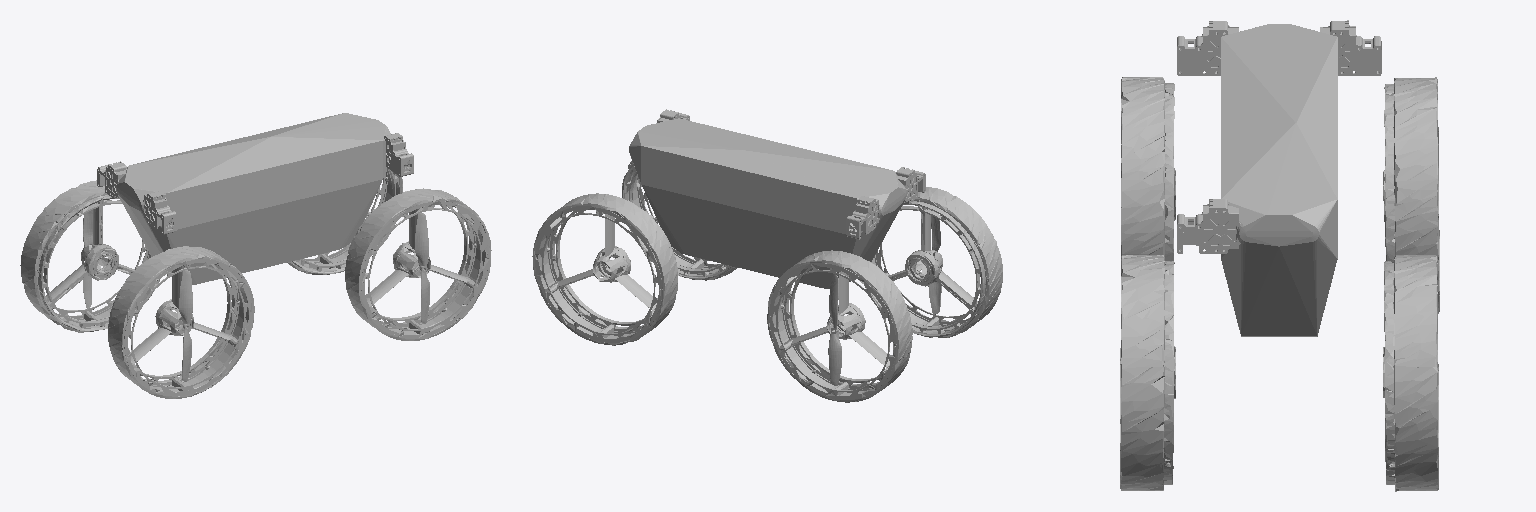
--- What the picture shows (computed from the rendered views, not written in the file) ---
Views: 3 orthographic renders of the robot side by side, from view 1: azimuth 30°, elevation 25°; view 2: azimuth 150°, elevation 25°; view 3: azimuth 270°, elevation 25°.
Model m4assembly with 22 links and 21 joints (10 revolute, 4 continuous, 7 fixed), rooted at base_link, posed all joints at 0.
Links seen in each view (by area): view 1: base_link, rear_right_wheel, front_right_wheel, rear_left_wheel, front_left_wheel, rear_right_blade, front_right_blade, rear_right_hip, front_right_hip, rear_left_hip, rear_left_blade; view 2: base_link, front_left_wheel, rear_left_wheel, rear_right_wheel, front_right_wheel, rear_left_blade, rear_left_hip, rear_right_hip, rear_right_blade; view 3: base_link, front_left_wheel, front_right_wheel, rear_left_wheel, rear_right_wheel, front_right_hip, rear_left_hip, rear_right_hip.
Link boxes in pixels (x1,y1,x2,y2): base_link: (116,113,390,284); rear_right_wheel: (108,246,254,398); front_right_wheel: (345,188,491,340); rear_left_wheel: (20,180,160,332); front_left_wheel: (287,168,402,274); rear_right_blade: (179,270,192,381); front_right_blade: (415,213,429,323); rear_right_hip: (143,191,176,234); front_right_hip: (384,133,413,176); rear_left_hip: (97,161,126,197); rear_left_blade: (83,205,92,309); base_link: (629,118,906,288); front_left_wheel: (532,193,677,345); rear_left_wheel: (767,250,912,402); rear_right_wheel: (864,187,1002,337); front_right_wheel: (622,161,737,280); rear_left_blade: (828,274,841,385); rear_left_hip: (846,196,879,239); rear_right_hip: (896,167,925,203); rear_right_blade: (928,210,941,314); base_link: (1221,24,1337,336); front_left_wheel: (1383,255,1438,491); front_right_wheel: (1120,255,1175,490); rear_left_wheel: (1383,77,1439,313); rear_right_wheel: (1121,77,1175,260); front_right_hip: (1177,199,1240,253); rear_left_hip: (1320,20,1381,75); rear_right_hip: (1177,21,1238,75).
Bounding box of the posed robot: 0.6978 × 0.3389 × 0.3329 m (x, y, z).
11 mesh visuals loaded from 18 distinct referenced files (11 binary STL); not drawn: 7 (reference not matched to a file when rendering).

URDF robot description (m4assembly):
<?xml version="1.0" encoding="utf-8"?>

<robot name="m4assembly">
  <joint name="m4/ground_truth/odometry_sensorgt_joint" type="revolute">
    <parent link="base_link"/>
    <child link="m4/ground_truth/odometry_sensorgt_link"/>
    <origin xyz="0      0      0.19492" rpy="0 0 0"/>
    <axis xyz="0 0 1"/>
    <limit lower="0.0" upper="0.0" effort="0.0" velocity="0.0"/>
  </joint>
  <joint name="m4/imu_joint" type="revolute">
    <parent link="base_link"/>
    <child link="m4/imu_link"/>
    <origin xyz="0      0      0.19492" rpy="0 0 0"/>
    <axis xyz="0 0 1"/>
    <limit lower="0.0" upper="0.0" effort="0.0" velocity="0.0"/>
  </joint>
  <link name="m4/ground_truth/odometry_sensorgt_link">
    <inertial>
      <mass value="0.001"/>
      <origin xyz="0 0 0" rpy="0 0 0"/>
      <inertia ixx="0.0001" ixy="0" ixz="0" iyy="0.0002" iyz="0" izz="0.0002"/>
    </inertial>
  </link>
  <link name="m4/imu_link">
   <inertial>
      <mass value="0.001"/>
      <origin xyz="0 0 0" rpy="0 0 0"/>
      <inertia ixx="0.00001" ixy="0" ixz="0" iyy="0.00002" iyz="0" izz="0.00002"/>
   </inertial>
  </link>
  <link
    name="base_link">
    <inertial>
      <origin
        xyz="0.00014012 -1.2866E-05 -0.067235"
        rpy="0 0 0" />
      <mass
        value="1.054" />
      <inertia
        ixx="0.00066925"
        ixy="-1.7138E-07"
        ixz="8.4179E-07"
        iyy="0.0060916"
        iyz="-5.4732E-08"
        izz="0.006372" />
    </inertial>
    <visual>
      <origin
        xyz="0 0 0"
        rpy="0 0 0" />
      <geometry>
        <mesh
          filename="package://m4assembly/meshes/base_link.STL" />
      </geometry>
      <material
        name="">
        <color
          rgba="0.75294 0.75294 0.75294 1" />
      </material>
    </visual>
    <collision>
      <origin
        xyz="0 0 0"
        rpy="0 0 0" />
      <geometry>
        <mesh
          filename="package://m4assembly/meshes/col/base_link.STL" />
      </geometry>
    </collision>
  </link>
  <link
    name="rear_left_hip">
    <inertial>
      <origin
        xyz="0.032048263261567 0.00148857273521091 0.000801285389170403"
        rpy="0 0 0" />
      <mass
        value="0.0631744337027232" />
      <inertia
        ixx="1.00187470871694E-05"
        ixy="1.26346518144828E-06"
        ixz="-1.71088892144535E-13"
        iyy="1.47423630145446E-05"
        iyz="-3.33426314544602E-14"
        izz="2.18314090226691E-05" />
    </inertial>
    <visual>
      <origin
        xyz="0 0 0"
        rpy="0 0 0" />
      <geometry>
        <mesh
          filename="package://m4assembly/meshes/rear_left_hip.STL" />
      </geometry>
      <material
        name="">
        <color
          rgba="0.752941176470588 0.752941176470588 0.752941176470588 1" />
      </material>
    </visual>
    <collision>
      <origin
        xyz="0 0 0"
        rpy="0 0 0" />
      <geometry>
        <mesh
          filename="package://m4assembly/meshes/col/rear_left_hip.STL" />
      </geometry>
    </collision>
  </link>
  <joint
    name="rear_left_hip_joint"
    type="revolute">
    <origin
      xyz="-0.2231 0.0323 -0.02605"
      rpy="1.5708 -0.0099006 1.5708" />
    <parent
      link="base_link" />
    <child
      link="rear_left_hip" />
    <axis
      xyz="0 0 1" />
    <limit
      lower="0"
      upper="1.571"
      effort="10.5"
      velocity="1.57" />
  </joint>
  <link
    name="rear_left_leg">
    <inertial>
      <origin
        xyz="-3.41455978458693E-06 0.0865094820933296 -0.00425258484840052"
        rpy="0 0 0" />
      <mass
        value="0.208886814057311" />
      <inertia
        ixx="7.70084638154863E-05"
        ixy="9.13752456418355E-09"
        ixz="3.41558069671286E-07"
        iyy="5.22430908180149E-05"
        iyz="-3.49227338347394E-08"
        izz="5.21652155907927E-05" />
    </inertial>
    <visual>
      <origin
        xyz="0 0 0"
        rpy="0 0 0" />
      <geometry>
        <mesh
          filename="package://m4assembly/meshes/rear_left_leg.STL" />
      </geometry>
      <material
        name="">
        <color
          rgba="0.752941176470588 0.752941176470588 0.752941176470588 1" />
      </material>
    </visual>
    <collision>
      <origin
        xyz="0 0 0"
        rpy="0 0 0" />
      <geometry>
        <mesh
          filename="package://m4assembly/meshes/col/rear_left_leg.STL" />
      </geometry>
    </collision>
  </link>
  <joint
    name="rear_left_leg_joint"
    type="fixed">
    <origin
      xyz="0.0611 -0.006895 -5E-05"
      rpy="1.5708 -1.5526 1.5708" />
    <parent
      link="rear_left_hip" />
    <child
      link="rear_left_leg" />
    <axis
      xyz="0 0 -1" />
  </joint>
  <link
    name="rear_left_wheel">
    <inertial>
      <origin
        xyz="-1.2835011736767E-06 2.34490590667047E-07 -0.0298825868697071"
        rpy="0 0 0" />
      <mass
        value="0.447367748033206" />
      <inertia
        ixx="0.00104268899323013"
        ixy="-3.91603340525233E-08"
        ixz="3.60415118706037E-11"
        iyy="0.00104263881447407"
        iyz="-3.26123864995785E-11"
        izz="0.00200352361648073" />
    </inertial>
    <visual>
      <origin
        xyz="0 0 0"
        rpy="0 0 0" />
      <geometry>
        <mesh
          filename="package://m4assembly/meshes/rear_left_wheel.STL" />
      </geometry>
      <material
        name="">
        <color
          rgba="0.752941176470588 0.752941176470588 0.752941176470588 1" />
      </material>
    </visual>
    <collision>
      <origin
        xyz="0 0 0"
        rpy="0 0 0" />
      <geometry>
        <mesh
          filename="package://m4assembly/meshes/col/rear_left_wheel.STL" />
      </geometry>
    </collision>
  </link>
  <joint
    name="rear_left_wheel_joint"
    type="continuous">
    <origin
      xyz="0 0.162 0.011129"
      rpy="-3.1416 0 0.018227" />
    <parent
      link="rear_left_leg" />
    <child
      link="rear_left_wheel" />
    <axis
      xyz="0 0 -1" />
    <limit
      effort="200"
      velocity="200" />
  </joint>
  <link
    name="rear_left_blade">
    <inertial>
      <origin
        xyz="-3.30314530727627E-08 -8.23060748793014E-05 0.0082946342231609"
        rpy="0 0 0" />
      <mass
        value="0.00610274937825579" />
      <inertia
        ixx="4.75952063199721E-06"
        ixy="-3.96883337183772E-08"
        ixz="-3.93240380060884E-10"
        iyy="1.57361545543065E-07"
        iyz="-4.65846533883739E-08"
        izz="4.86189149512478E-06" />
    </inertial>
    <visual>
      <origin
        xyz="0 0 0"
        rpy="0 0 0" />
      <geometry>
        <mesh
          filename="package://m4assembly/meshes/rear_left_blade.STL" />
      </geometry>
      <material
        name="">
        <color
          rgba="0.752941176470588 0.752941176470588 0.752941176470588 1" />
      </material>
    </visual>
    <collision>
      <origin
        xyz="0 0 0"
        rpy="0 0 0" />
      <geometry>
        <cylinder radius="0.1" length="0.005"/>
      </geometry>
    </collision>
  </link>
  <joint
    name="rear_left_blade_joint"
    type="revolute">
    <origin
      xyz="0 0.162 0.061129"
      rpy="-0.0099006 0 0.018227" />
    <parent
      link="rear_left_leg" />
    <child
      link="rear_left_blade" />
    <axis
      xyz="0 -0.0099004 0.99995" />
    <limit lower="-1e+16" upper="1e+16" effort="10000" velocity="10000"/>
  </joint>
  <link
    name="rear_right_hip">
    <inertial>
      <origin
        xyz="0.0320482634870919 0.00148857274187802 -0.000820989548367512"
        rpy="0 0 0" />
      <mass
        value="0.0631744341018766" />
      <inertia
        ixx="1.00187470810585E-05"
        ixy="1.26346518895748E-06"
        ixz="-1.58209935155058E-13"
        iyy="1.47423629783338E-05"
        iyz="-2.99342928986296E-14"
        izz="2.18314089935792E-05" />
    </inertial>
    <visual>
      <origin
        xyz="0 0 0"
        rpy="0 0 0" />
      <geometry>
        <mesh
          filename="package://m4assembly/meshes/rear_right_hip.STL" />
      </geometry>
      <material
        name="">
        <color
          rgba="0.752941176470588 0.752941176470588 0.752941176470588 1" />
      </material>
    </visual>
    <collision>
      <origin
        xyz="0 0 0"
        rpy="0 0 0" />
      <geometry>
        <mesh
          filename="package://m4assembly/meshes/col/rear_right_hip.STL" />
      </geometry>
    </collision>
  </link>
  <joint
    name="rear_right_hip_joint"
    type="revolute">
    <origin
      xyz="-0.2235 -0.0323 -0.02605"
      rpy="1.5708 -0.0032479 -1.5708" />
    <parent
      link="base_link" />
    <child
      link="rear_right_hip" />
    <axis
      xyz="0 0 1" />
    <limit
      lower="0"
      upper="1.571"
      effort="10.5"
      velocity="1.57" />
  </joint>
  <link
    name="rear_right_leg">
    <inertial>
      <origin
        xyz="3.41455156416259E-06 0.0865094821571721 0.00425258483326613"
        rpy="0 0 0" />
      <mass
        value="0.208886814304404" />
      <inertia
        ixx="7.70084638389827E-05"
        ixy="-9.13752631729426E-09"
        ixz="3.41558058672973E-07"
        iyy="5.22430908411789E-05"
        iyz="3.49227166953638E-08"
        izz="5.21652156031499E-05" />
    </inertial>
    <visual>
      <origin
        xyz="0 0 0"
        rpy="0 0 0" />
      <geometry>
        <mesh
          filename="package://m4assembly/meshes/rear_right_leg.STL" />
      </geometry>
      <material
        name="">
        <color
          rgba="0.752941176470588 0.752941176470588 0.752941176470588 1" />
      </material>
    </visual>
    <collision>
      <origin
        xyz="0 0 0"
        rpy="0 0 0" />
      <geometry>
        <mesh
          filename="package://m4assembly/meshes/col/rear_right_leg.STL" />
      </geometry>
    </collision>
  </link>
  <joint
    name="rear_right_leg_joint"
    type="fixed">
    <origin
      xyz="0.0611 -0.006895 0"
      rpy="3.1416 1.5708 0" />
    <parent
      link="rear_right_hip" />
    <child
      link="rear_right_leg" />
    <axis
      xyz="0 0 1" />
  </joint>
  <link
    name="rear_right_wheel">
    <inertial>
      <origin
        xyz="-1.78659846361562E-08 -2.01874887645337E-06 0.0255799203790625"
        rpy="0 0 0" />
      <mass
        value="0.447367750743676" />
      <inertia
        ixx="0.0010426206896193"
        ixy="-2.73561891555305E-10"
        ixz="3.48030847023143E-11"
        iyy="0.00104270712224184"
        iyz="3.22928670574781E-11"
        izz="0.00200352362095162" />
    </inertial>
    <visual>
      <origin
        xyz="0 0 0"
        rpy="0 0 0" />
      <geometry>
        <mesh
          filename="package://m4assembly/meshes/rear_right_wheel.STL" />
      </geometry>
      <material
        name="">
        <color
          rgba="0.752941176470588 0.752941176470588 0.752941176470588 1" />
      </material>
    </visual>
    <collision>
      <origin
        xyz="0 0 0"
        rpy="0 0 0" />
      <geometry>
        <mesh
          filename="package://m4assembly/meshes/col/rear_right_wheel.STL" />
      </geometry>
    </collision>
  </link>
  <joint
    name="rear_right_wheel_joint"
    type="continuous">
    <origin
      xyz="0 0.162 -0.015431"
      rpy="3.1416 0 0" />
    <parent
      link="rear_right_leg" />
    <child
      link="rear_right_wheel" />
    <axis
      xyz="0 0 -1" />
    <limit
      effort="200"
      velocity="200" />
  </joint>
  <link
    name="rear_right_blade">
    <inertial>
      <origin
        xyz="2.93887484903443E-08 6.79423276528368E-08 0.00399237045178649"
        rpy="0 0 0" />
      <mass
        value="0.00610270077025495" />
      <inertia
        ixx="4.75712306507452E-06"
        ixy="-1.12007295746605E-07"
        ixz="2.24623999105101E-13"
        iyy="1.59284414569248E-07"
        iyz="3.54828245352755E-13"
        izz="4.86233952224275E-06" />
    </inertial>
    <visual>
      <origin
        xyz="0 0 0"
        rpy="0 0 0" />
      <geometry>
        <mesh
          filename="package://m4assembly/meshes/rear_right_blade.STL" />
      </geometry>
      <material
        name="">
        <color
          rgba="0.752941176470588 0.752941176470588 0.752941176470588 1" />
      </material>
    </visual>
    <collision>
      <origin
        xyz="0 0 0"
        rpy="0 0 0" />
      <geometry>
        <mesh
          filename="package://m4assembly/meshes/col/rear_right_blade.STL" />
      </geometry>
    </collision>
  </link>
  <joint
    name="rear_right_blade_joint"
    type="revolute">
    <origin
      xyz="0 0.162 -0.065431"
      rpy="3.1416 0 0" />
    <parent
      link="rear_right_leg" />
    <child
      link="rear_right_blade" />
    <axis
      xyz="0 0 1" />
    <limit lower="-1e+16" upper="1e+16" effort="10000" velocity="10000"/>  
  </joint>
  <link
    name="front_left_hip">
    <inertial>
      <origin
        xyz="0.0320482633471696 0.00148857273674285 0.00169341200883941"
        rpy="0 0 0" />
      <mass
        value="0.0631744338743183" />
      <inertia
        ixx="1.00187470896772E-05"
        ixy="1.26346518496343E-06"
        ixz="-1.75127210359815E-13"
        iyy="1.474236301921E-05"
        iyz="-3.22758580937248E-14"
        izz="2.18314090243211E-05" />
    </inertial>
    <visual>
      <origin
        xyz="0 0 0"
        rpy="0 0 0" />
      <geometry>
        <mesh
          filename="package://m4assembly/meshes/front_left_hip.STL" />
      </geometry>
      <material
        name="">
        <color
          rgba="0.752941176470588 0.752941176470588 0.752941176470588 1" />
      </material>
    </visual>
    <collision>
      <origin
        xyz="0 0 0"
        rpy="0 0 0" />
      <geometry>
        <mesh
          filename="package://m4assembly/meshes/col/front_left_hip.STL" />
      </geometry>
    </collision>
  </link>
  <joint
    name="front_left_hip_joint"
    type="revolute">
    <origin
      xyz="0.22099 0.0323 -0.02605"
      rpy="1.5708 -0.006693 1.5708" />
    <parent
      link="base_link" />
    <child
      link="front_left_hip" />
    <axis
      xyz="0 0 1" />
    <limit
      lower="0"
      upper="1.571"
      effort="10.5"
      velocity="1.57" />
  </joint>
  <link
    name="front_left_leg">
    <inertial>
      <origin
        xyz="-3.41455576607095E-06 0.0865094821265606 -0.00425258483916741"
        rpy="0 0 0" />
      <mass
        value="0.208886814202469" />
      <inertia
        ixx="7.70084638282559E-05"
        ixy="9.13752541336675E-09"
        ixz="3.41558064254658E-07"
        iyy="5.22430908306995E-05"
        iyz="-3.49227240782923E-08"
        izz="5.21652155975951E-05" />
    </inertial>
    <visual>
      <origin
        xyz="0 0 0"
        rpy="0 0 0" />
      <geometry>
        <mesh
          filename="package://m4assembly/meshes/front_left_leg.STL" />
      </geometry>
      <material
        name="">
        <color
          rgba="0.752941176470588 0.752941176470588 0.752941176470588 1" />
      </material>
    </visual>
    <collision>
      <origin
        xyz="0 0 0"
        rpy="0 0 0" />
      <geometry>
        <mesh
          filename="package://m4assembly/meshes/col/front_left_leg.STL" />
      </geometry>
    </collision>
  </link>
  <joint
    name="front_left_leg_joint"
    type="fixed">
    <origin
      xyz="0.0611 -0.006895 0.0025144"
      rpy="-1.5708 -1.5708 -1.5708" />
    <parent
      link="front_left_hip" />
    <child
      link="front_left_leg" />
    <axis
      xyz="0 0 -1" />
  </joint>
  <link
    name="front_left_wheel">
    <inertial>
      <origin
        xyz="1.77235233511999E-08 -2.01879895370127E-06 -0.0284894545323338"
        rpy="0 0 0" />
      <mass
        value="0.447367750292981" />
      <inertia
        ixx="0.00104262069065618"
        ixy="2.74220212176939E-10"
        ixz="3.54050122778484E-11"
        iyy="0.00104270712119543"
        iyz="-3.25695335683767E-11"
        izz="0.00200352362063109" />
    </inertial>
    <visual>
      <origin
        xyz="0 0 0"
        rpy="0 0 0" />
      <geometry>
        <mesh
          filename="package://m4assembly/meshes/front_left_wheel.STL" />
      </geometry>
      <material
        name="">
        <color
          rgba="0.752941176470588 0.752941176470588 0.752941176470588 1" />
      </material>
    </visual>
    <collision>
      <origin
        xyz="0 0 0"
        rpy="0 0 0" />
      <geometry>
        <mesh
          filename="package://m4assembly/meshes/col/front_left_wheel.STL" />
      </geometry>
    </collision>
  </link>
  <joint
    name="front_left_wheel_joint"
    type="continuous">
    <origin
      xyz="0 0.162 0.012522"
      rpy="3.1416 0 0" />
    <parent
      link="front_left_leg" />
    <child
      link="front_left_wheel" />
    <axis
      xyz="0 0 -1" />
    <limit
      effort="200"
      velocity="200" />
  </joint>
  <link
    name="front_left_blade">
    <inertial>
      <origin
        xyz="-1.18411884182483E-08 -1.5997300897852E-07 0.0069019562259629"
        rpy="0 0 0" />
      <mass
        value="0.0061028301426362" />
      <inertia
        ixx="4.65427221541224E-06"
        ixy="6.89623690398127E-07"
        ixz="-5.02014385573018E-13"
        iyy="2.62287309333734E-07"
        iyz="-7.87853177369262E-13"
        izz="4.86249379657286E-06" />
    </inertial>
    <visual>
      <origin
        xyz="0 0 0"
        rpy="0 0 0" />
      <geometry>
        <mesh
          filename="package://m4assembly/meshes/front_left_blade.STL" />
      </geometry>
      <material
        name="">
        <color
          rgba="0.752941176470588 0.752941176470588 0.752941176470588 1" />
      </material>
    </visual>
    <collision>
      <origin
        xyz="0 0 0"
        rpy="0 0 0" />
      <geometry>
        <mesh
          filename="package://m4assembly/meshes/col/front_left_blade.STL" />
      </geometry>
    </collision>
  </link>
  <joint
    name="front_left_blade_joint"
    type="revolute">
    <origin
      xyz="0 0.162 0.062522"
      rpy="0 0 0" />
    <parent
      link="front_left_leg" />
    <child
      link="front_left_blade" />
    <axis
      xyz="0 0 1" />
    <limit lower="-1e+16" upper="1e+16" effort="10000" velocity="10000"/>
  </joint>
  <link
    name="front_right_hip">
    <inertial>
      <origin
        xyz="0.0320482634665248 0.0014885727412563 -0.00131311618414334"
        rpy="0 0 0" />
      <mass
        value="0.0631744340641276" />
      <inertia
        ixx="1.00187470815544E-05"
        ixy="1.26346518823477E-06"
        ixz="-1.57692513882067E-13"
        iyy="1.47423629788781E-05"
        iyz="-2.96148209881054E-14"
        izz="2.18314089943886E-05" />
    </inertial>
    <visual>
      <origin
        xyz="0 0 0"
        rpy="0 0 0" />
      <geometry>
        <mesh
          filename="package://m4assembly/meshes/front_right_hip.STL" />
      </geometry>
      <material
        name="">
        <color
          rgba="0.752941176470588 0.752941176470588 0.752941176470588 1" />
      </material>
    </visual>
    <collision>
      <origin
        xyz="0 0 0"
        rpy="0 0 0" />
      <geometry>
        <mesh
          filename="package://m4assembly/meshes/col/front_right_hip.STL" />
      </geometry>
    </collision>
  </link>
  <joint
    name="front_right_hip_joint"
    type="revolute">
    <origin
      xyz="0.22099 -0.0323 -0.02605"
      rpy="1.5708 -0.0046828 -1.5708" />
    <parent
      link="base_link" />
    <child
      link="front_right_hip" />
    <axis
      xyz="0 0 1" />
    <limit
      lower="0"
      upper="1.571"
      effort="10.5"
      velocity="1.57" />
  </joint>
  <link
    name="front_right_leg">
    <inertial>
      <origin
        xyz="3.41455365766163E-06 0.0865094821436897 0.00425258483703411"
        rpy="0 0 0" />
      <mass
        value="0.208886814244098" />
      <inertia
        ixx="7.70084638339796E-05"
        ixy="-9.13752605384622E-09"
        ixz="3.4155806167583E-07"
        iyy="5.2243090836002E-05"
        iyz="3.49227209398553E-08"
        izz="5.21652156003534E-05" />
    </inertial>
    <visual>
      <origin
        xyz="0 0 0"
        rpy="0 0 0" />
      <geometry>
        <mesh
          filename="package://m4assembly/meshes/front_right_leg.STL" />
      </geometry>
      <material
        name="">
        <color
          rgba="0.752941176470588 0.752941176470588 0.752941176470588 1" />
      </material>
    </visual>
    <collision>
      <origin
        xyz="0 0 0"
        rpy="0 0 0" />
      <geometry>
        <mesh
          filename="package://m4assembly/meshes/col/front_right_leg.STL" />
      </geometry>
    </collision>
  </link>
  <joint
    name="front_right_leg_joint"
    type="fixed">
    <origin
      xyz="0.0611 -0.006895 -0.0021644"
      rpy="1.5708 1.5656 -1.5708" />
    <parent
      link="front_right_hip" />
    <child
      link="front_right_leg" />
    <axis
      xyz="0 0 1" />
    <limit
      lower="-0.5"
      upper="0.5"
      effort="10.5"
      velocity="1.57" />
  </joint>
  <link
    name="front_right_wheel">
    <inertial>
      <origin
        xyz="1.28310223720821E-06 2.3448596928044E-07 0.0255837574129385"
        rpy="0 0 0" />
      <mass
        value="0.447367750640603" />
      <inertia
        ixx="0.00104268899474349"
        ixy="3.91619025865096E-08"
        ixz="3.50659148166867E-11"
        iyy="0.00104263881744075"
        iyz="3.24293757397963E-11"
        izz="0.00200352362110246" />
    </inertial>
    <visual>
      <origin
        xyz="0 0 0"
        rpy="0 0 0" />
      <geometry>
        <mesh
          filename="package://m4assembly/meshes/front_right_wheel.STL" />
      </geometry>
      <material
        name="">
        <color
          rgba="0.752941176470588 0.752941176470588 0.752941176470588 1" />
      </material>
    </visual>
    <collision>
      <origin
        xyz="0 0 0"
        rpy="0 0 0" />
      <geometry>
        <mesh
          filename="package://m4assembly/meshes/col/front_right_wheel.STL" />
      </geometry>
    </collision>
  </link>
  <joint
    name="front_right_wheel_joint"
    type="continuous">
    <origin
      xyz="0 0.162 -0.015427"
      rpy="-3.1416 0 -0.0052077" />
    <parent
      link="front_right_leg" />
    <child
      link="front_right_wheel" />
    <axis
      xyz="0 0 -1" />
    <limit
      effort="200"
      velocity="200" />
  </joint>
  <link
    name="front_right_blade">
    <inertial>
      <origin
        xyz="6.96858681763831E-08 7.67517420813268E-07 0.0039962219905107"
        rpy="0 0 0" />
      <mass
        value="0.00610290216434297" />
      <inertia
        ixx="4.75885051711651E-06"
        ixy="7.08408517084622E-08"
        ixz="-8.40829933326352E-14"
        iyy="1.57650099061995E-07"
        iyz="8.23720329397051E-13"
        izz="4.86243263794242E-06" />
    </inertial>
    <visual>
      <origin
        xyz="0 0 0"
        rpy="0 0 0" />
      <geometry>
        <mesh
          filename="package://m4assembly/meshes/front_right_blade.STL" />
      </geometry>
      <material
        name="">
        <color
          rgba="0.752941176470588 0.752941176470588 0.752941176470588 1" />
      </material>
    </visual>
    <collision>
      <origin
        xyz="0 0 0"
        rpy="0 0 0" />
      <geometry>
        <mesh
          filename="package://m4assembly/meshes/col/front_right_blade.STL" />
      </geometry>
    </collision>
  </link>
  <joint
    name="front_right_blade_joint"
    type="revolute">
    <origin
      xyz="0 0.162 -0.065427"
      rpy="-3.1416 0 -0.0052077" />
    <parent
      link="front_right_leg" />
    <child
      link="front_right_blade" />
    <axis
      xyz="0 0 1" />
    <limit lower="-1e+16" upper="1e+16" effort="10000" velocity="10000"/>
  </joint>

    <link name="front_realsense" />

  <!--
    The gazebo plugin aligns the depth data with the Z axis, with X=left and Y=up
    ROS expects the depth data along the X axis, with Y=left and Z=up
    This link only exists to give the gazebo plugin the correctly-oriented frame
  -->
  <link name="front_realsense_gazebo" />
  <joint name="front_realsense_gazebo_joint" type="fixed">
    <parent link="front_realsense"/>
    <child link="front_realsense_gazebo"/>
    <origin xyz="0.0 0 0" rpy="-1.5707963267948966 0 -1.5707963267948966"/>
  </joint>

  <gazebo reference="front_realsense">
    <turnGravityOff>true</turnGravityOff>
    <sensor type="depth" name="front_realsense_depth">
      <update_rate>30</update_rate>
      <camera>
        <!-- 75x65 degree FOV for the depth sensor -->
        <horizontal_fov>1.5184351666666667</horizontal_fov>
        <vertical_fov>1.0122901111111111</vertical_fov>

        <image>
          <width>640</width>
          <height>480</height>
          <format>RGB8</format>
        </image>
        <clip>
          <!-- give the color sensor a maximum range of 50m so that the simulation renders nicely -->
          <near>0.01</near>
          <far>50.0</far>
        </clip>
      </camera>
      <plugin name="kinect_controller" filename="libgazebo_ros_openni_kinect.so">
        <baseline>0.2</baseline>
        <alwaysOn>true</alwaysOn>
        <updateRate>30</updateRate>
        <cameraName>realsense</cameraName>
        <imageTopicName>color/image_raw</imageTopicName>
        <cameraInfoTopicName>color/camera_info</cameraInfoTopicName>
        <depthImageTopicName>depth/image_rect_raw</depthImageTopicName>
        <depthImageInfoTopicName>depth/camera_info</depthImageInfoTopicName>
        <pointCloudTopicName>depth/color/points</pointCloudTopicName>
        <frameName>front_realsense_gazebo</frameName>
        <pointCloudCutoff>0.105</pointCloudCutoff>
        <pointCloudCutoffMax>8.0</pointCloudCutoffMax>
        <distortionK1>0.00000001</distortionK1>
        <distortionK2>0.00000001</distortionK2>
        <distortionK3>0.00000001</distortionK3>
        <distortionT1>0.00000001</distortionT1>
        <distortionT2>0.00000001</distortionT2>
        <CxPrime>0</CxPrime>
        <Cx>0</Cx>
        <Cy>0</Cy>
        <focalLength>0</focalLength>
        <hackBaseline>0</hackBaseline>
      </plugin>
    </sensor>
  </gazebo>

  <link name="front_realsense_lens">
    <visual>
      <origin xyz="0.02 0 0" rpy="1.5707963267948966 0 1.5707963267948966" />
      <geometry>
        <mesh filename="package://realsense2_description/meshes/d435.dae" />
      </geometry>
      <material name="white" />
    </visual>
  </link>

  <joint type="fixed" name="front_realsense_lens_joint">
    <!-- Offset the camera 2cm backwards and 1cm up -->
    <origin xyz="0.24099 0 0" rpy="0 0 0" />
    <parent link="base_link" />
    <child link="front_realsense_lens" />
  </joint>
  <joint type="fixed" name="front_realsense_joint">
    <origin xyz="0.025 0 0" rpy="0 0 0" />
    <parent link="front_realsense_lens" />
    <child link="front_realsense" />
  </joint>
  
  <plugin name="p3d_base_controller" filename="libgazebo_ros_p3d.so">
   <alwaysOn>true</alwaysOn>
   <updateRate>50.0</updateRate>
   <bodyName>base_link</bodyName>
   <topicName>my_odom</topicName>
   <gaussianNoise>0.01</gaussianNoise>
   <frameName>world</frameName>
   <xyzOffsets>0 0 0</xyzOffsets>
   <rpyOffsets>0 0 0</rpyOffsets>
  </plugin>

<!-- ROS Control plugin for Gazebo -->
  <gazebo>
    <plugin name="gazebo_ros_control" filename="libgazebo_ros_control.so">
      <robotNamespace>/m4assembly</robotNamespace>
    </plugin>
  </gazebo>

  <!-- transmission -->
  <transmission name="rl_hip_trans">
    <type>transmission_interface/SimpleTransmission</type>
    <actuator name="motor1">
      <mechanicalReduction>1</mechanicalReduction>
    </actuator>
    <joint name="rear_left_hip_joint">
      <hardwareInterface>hardware_interface/EffortJointInterface</hardwareInterface>
    </joint>
  </transmission>

  <transmission name="rl_wheel_trans">
    <type>transmission_interface/SimpleTransmission</type>
    <actuator name="motor3">
      <mechanicalReduction>1</mechanicalReduction>
    </actuator>
    <joint name="rear_left_wheel_joint">
      <hardwareInterface>hardware_interface/VelocityJointInterface</hardwareInterface>
    </joint>
  </transmission>

  <transmission name="rr_hip_trans">
    <type>transmission_interface/SimpleTransmission</type>
    <actuator name="motor5">
      <mechanicalReduction>1</mechanicalReduction>
    </actuator>
    <joint name="rear_right_hip_joint">
      <hardwareInterface>hardware_interface/EffortJointInterface</hardwareInterface>
    </joint>
  </transmission>

  <transmission name="rr_wheel_trans">
    <type>transmission_interface/SimpleTransmission</type>
    <actuator name="motor7">
      <mechanicalReduction>1</mechanicalReduction>
    </actuator>
    <joint name="rear_right_wheel_joint">
      <hardwareInterface>hardware_interface/VelocityJointInterface</hardwareInterface>
    </joint>
  </transmission>

  <transmission name="fl_hip_trans">
    <type>transmission_interface/SimpleTransmission</type>
    <actuator name="motor9">
      <mechanicalReduction>1</mechanicalReduction>
    </actuator>
    <joint name="front_left_hip_joint">
      <hardwareInterface>hardware_interface/EffortJointInterface</hardwareInterface>
    </joint>
  </transmission>

  <transmission name="fl_wheel_trans">
    <type>transmission_interface/SimpleTransmission</type>
    <actuator name="motor11">
      <mechanicalReduction>1</mechanicalReduction>
    </actuator>
    <joint name="front_left_wheel_joint">
      <hardwareInterface>hardware_interface/VelocityJointInterface</hardwareInterface>
    </joint>
  </transmission>

  <transmission name="fr_hip_trans">
    <type>transmission_interface/SimpleTransmission</type>
    <actuator name="motor13">
      <mechanicalReduction>1</mechanicalReduction>
    </actuator>
    <joint name="front_right_hip_joint">
      <hardwareInterface>hardware_interface/EffortJointInterface</hardwareInterface>
    </joint>
  </transmission>

  <transmission name="fr_wheel_trans">
    <type>transmission_interface/SimpleTransmission</type>
    <actuator name="motor12">
      <mechanicalReduction>1</mechanicalReduction>
    </actuator>
    <joint name="front_right_wheel_joint">
      <hardwareInterface>hardware_interface/VelocityJointInterface</hardwareInterface>
    </joint>
  </transmission>
  

  <gazebo reference="m4/imu_link">
    <gravity>true</gravity>
    <sensor name="imu_sensor" type="imu">
      <always_on>true</always_on>
      <update_rate>1000</update_rate>
      <visualize>true</visualize>
      <topic>__default_topic__</topic>
      <plugin filename="libgazebo_ros_imu_sensor.so" name="imu_plugin">
        <topicName>imu_link</topicName>
        <bodyName>m4/imu_link</bodyName>
        <updateRateHZ>10.0</updateRateHZ>
        <gaussianNoise>0.0</gaussianNoise>
        <xyzOffset>0 0 0</xyzOffset>
        <rpyOffset>0 0 0</rpyOffset>
        <frameName>imu_link</frameName>
        <initialOrientationAsReference>false</initialOrientationAsReference>
      </plugin>
      <pose>0 0 0 3.141593 0 0</pose>
    </sensor>
  </gazebo>
  <gazebo>
    <plugin name="rotor_0_blade_1" filename="libLiftDragPlugin.so">
      <a0>0.3</a0>
      <alpha_stall>1.4</alpha_stall>
      <cla>4.2500</cla>
      <cda>0.10</cda>
      <cma>0.00</cma>
      <cla_stall>-0.025</cla_stall>
      <cda_stall>0.0</cda_stall>
      <cma_stall>0.0</cma_stall>
      <area>0.002</area>
      <air_density>1.2041</air_density>
      <cp>0.084 0 0</cp>
      <forward>0 1 0</forward>
      <upward>0 0 1</upward>
      <link_name>front_right_blade</link_name>
    </plugin>
    <plugin name="rotor_0_blade_2" filename="libLiftDragPlugin.so">
      <a0>0.3</a0>
      <alpha_stall>1.4</alpha_stall>
      <cla>4.2500</cla>
      <cda>0.10</cda>
      <cma>0.00</cma>
      <cla_stall>-0.025</cla_stall>
      <cda_stall>0.0</cda_stall>
      <cma_stall>0.0</cma_stall>
      <area>0.002</area>
      <air_density>1.2041</air_density>
      <cp>-0.084 0 0</cp>
      <forward>0 -1 0</forward>
      <upward>0 0 1</upward>
      <link_name>front_right_blade</link_name>
    </plugin>

    <plugin name="rotor_1_blade_1" filename="libLiftDragPlugin.so">
      <a0>0.3</a0>
      <alpha_stall>1.4</alpha_stall>
      <cla>4.2500</cla>
      <cda>0.10</cda>
      <cma>0.00</cma>
      <cla_stall>-0.025</cla_stall>
      <cda_stall>0.0</cda_stall>
      <cma_stall>0.0</cma_stall>
      <area>0.002</area>
      <air_density>1.2041</air_density>
      <cp>0.084 0 0</cp>
      <forward>0 1 0</forward>
      <upward>0 0 1</upward>
      <link_name>rear_left_blade</link_name>
    </plugin>
    <plugin name="rotor_1_blade_2" filename="libLiftDragPlugin.so">
      <a0>0.3</a0>
      <alpha_stall>1.4</alpha_stall>
      <cla>4.2500</cla>
      <cda>0.10</cda>
      <cma>0.00</cma>
      <cla_stall>-0.025</cla_stall>
      <cda_stall>0.0</cda_stall>
      <cma_stall>0.0</cma_stall>
      <area>0.002</area>
      <air_density>1.2041</air_density>
      <cp>-0.084 0 0</cp>
      <forward>0 -1 0</forward>
      <upward>0 0 1</upward>
      <link_name>rear_left_blade</link_name>
    </plugin>

    <plugin name="rotor_2_blade_1" filename="libLiftDragPlugin.so">
      <a0>0.3</a0>
      <alpha_stall>1.4</alpha_stall>
      <cla>4.2500</cla>
      <cda>0.10</cda>
      <cma>0.00</cma>
      <cla_stall>-0.025</cla_stall>
      <cda_stall>0.0</cda_stall>
      <cma_stall>0.0</cma_stall>
      <area>0.002</area>
      <air_density>1.2041</air_density>
      <cp>0.084 0 0</cp>
      <forward>0 -1 0</forward>
      <upward>0 0 1</upward>
      <link_name>front_left_blade</link_name>
    </plugin>
    <plugin name="rotor_2_blade_2" filename="libLiftDragPlugin.so">
      <a0>0.3</a0>
      <alpha_stall>1.4</alpha_stall>
      <cla>4.2500</cla>
      <cda>0.10</cda>
      <cma>0.00</cma>
      <cla_stall>-0.025</cla_stall>
      <cda_stall>0.0</cda_stall>
      <cma_stall>0.0</cma_stall>
      <area>0.002</area>
      <air_density>1.2041</air_density>
      <cp>-0.084 0 0</cp>
      <forward>0 1 0</forward>
      <upward>0 0 1</upward>
      <link_name>front_left_blade</link_name>
    </plugin>

    <plugin name="rotor_3_blade_1" filename="libLiftDragPlugin.so">
      <a0>0.3</a0>
      <alpha_stall>1.4</alpha_stall>
      <cla>4.2500</cla>
      <cda>0.10</cda>
      <cma>0.00</cma>
      <cla_stall>-0.025</cla_stall>
      <cda_stall>0.0</cda_stall>
      <cma_stall>0.0</cma_stall>
      <area>0.002</area>
      <air_density>1.2041</air_density>
      <cp>0.084 0 0</cp>
      <forward>0 -1 0</forward>
      <upward>0 0 1</upward>
      <link_name>rear_right_blade</link_name>
    </plugin>
    <plugin name="rotor_3_blade_2" filename="libLiftDragPlugin.so">
      <a0>0.3</a0>
      <alpha_stall>1.4</alpha_stall>
      <cla>4.2500</cla>
      <cda>0.10</cda>
      <cma>0.00</cma>
      <cla_stall>-0.025</cla_stall>
      <cda_stall>0.0</cda_stall>
      <cma_stall>0.0</cma_stall>
      <area>0.002</area>
      <air_density>1.2041</air_density>
      <cp>-0.084 0 0</cp>
      <forward>0 1 0</forward>
      <upward>0 0 1</upward>
      <link_name>rear_right_blade</link_name>
    </plugin>

    <plugin name="arducopter_plugin" filename="libArduPilotPlugin.so">
      <fdm_addr>127.0.0.1</fdm_addr>
      <fdm_port_in>9002</fdm_port_in>
      <fdm_port_out>9003</fdm_port_out>
      <!--
          Require by APM :
          Only change model and gazebo from XYZ to XY-Z coordinates
      -->
      <modelXYZToAirplaneXForwardZDown>0 0 0 3.141593 0 0</modelXYZToAirplaneXForwardZDown>
      <gazeboXYZToNED>0 0 0 3.141593 0 0</gazeboXYZToNED>
      <imuName>m4/imu_link::imu_sensor</imuName>
      <connectionTimeoutMaxCount>5</connectionTimeoutMaxCount>
      <control channel="0">
      <!--
          incoming control command [0, 1]
          so offset it by 0 to get [0, 1]
          and divide max target by 1.
          offset = 0
          multiplier = 838 max rpm / 1 = 838
        -->
        <type>VELOCITY</type>
        <offset>0</offset>
        <p_gain>0.2</p_gain>
        <i_gain>0</i_gain>
        <d_gain>0</d_gain>
        <i_max>0</i_max>
        <i_min>0</i_min>
        <cmd_max>2.5</cmd_max>
        <cmd_min>-2.5</cmd_min>
        <jointName>front_right_blade_joint</jointName>
        <multiplier>1898</multiplier>
        <controlVelocitySlowdownSim>1</controlVelocitySlowdownSim>
      </control>
      <control channel="1">
        <type>VELOCITY</type>
        <offset>0</offset>
        <p_gain>0.2</p_gain>
        <i_gain>0</i_gain>
        <d_gain>0</d_gain>
        <i_max>0</i_max>
        <i_min>0</i_min>
        <cmd_max>2.5</cmd_max>
        <cmd_min>-2.5</cmd_min>
        <jointName>rear_left_blade_joint</jointName>
        <multiplier>1898</multiplier>
        <controlVelocitySlowdownSim>1</controlVelocitySlowdownSim>
      </control>
      <control channel="2">
        <type>VELOCITY</type>
        <offset>0</offset>
        <p_gain>0.2</p_gain>
        <i_gain>0</i_gain>
        <d_gain>0</d_gain>
        <i_max>0</i_max>
        <i_min>0</i_min>
        <cmd_max>2.5</cmd_max>
        <cmd_min>-2.5</cmd_min>
        <jointName>front_left_blade_joint</jointName>
        <multiplier>-1898</multiplier>
        <controlVelocitySlowdownSim>1</controlVelocitySlowdownSim>
      </control>
      <control channel="3">
        <type>VELOCITY</type>
        <offset>0</offset>
        <p_gain>0.2</p_gain>
        <i_gain>0</i_gain>
        <d_gain>0</d_gain>
        <i_max>0</i_max>
        <i_min>0</i_min>
        <cmd_max>2.5</cmd_max>
        <cmd_min>-2.5</cmd_min>
        <jointName>rear_right_blade_joint</jointName>
        <multiplier>-1898</multiplier>
        <controlVelocitySlowdownSim>1</controlVelocitySlowdownSim>
      </control>
    </plugin>
  </gazebo>
</robot>
